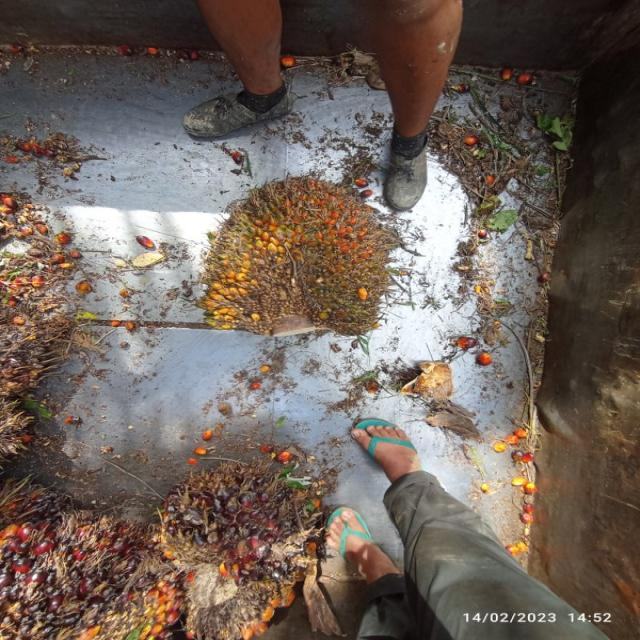fraksi 00: (142, 443, 320, 610)
fraksi 4: (199, 180, 376, 331)
